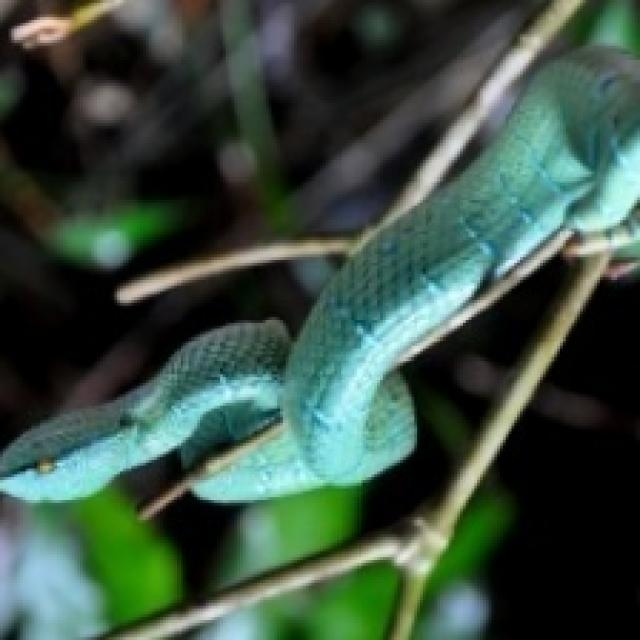north ph temple pitviper: (0, 49, 637, 500)
